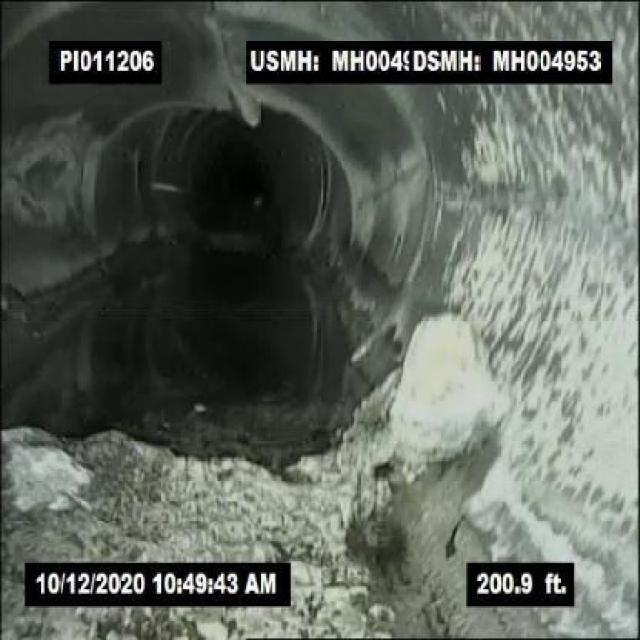Buckling: (199, 3, 243, 103)
Obstacle: (5, 426, 198, 548), (386, 310, 512, 456)
